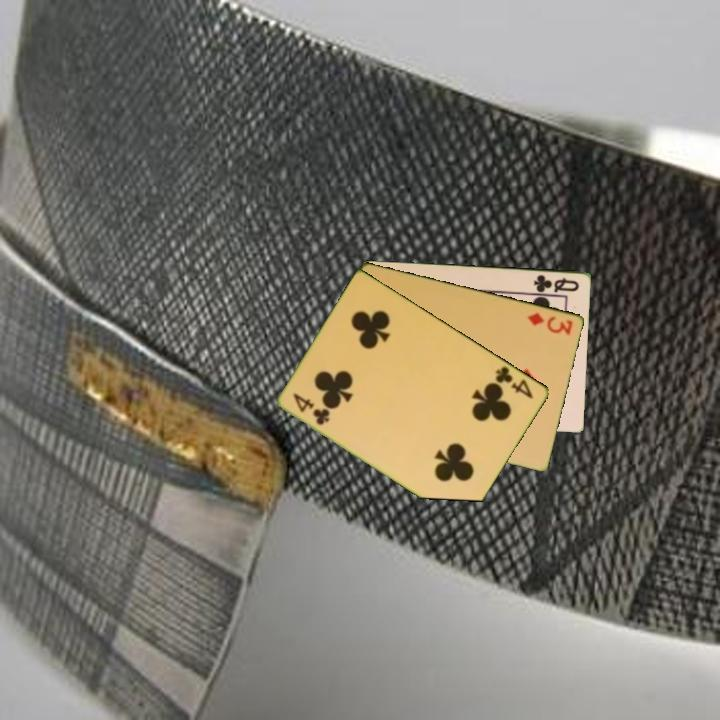3d: (524, 309, 576, 338)
4c: (492, 362, 537, 402), (290, 389, 333, 428)
Qc: (530, 271, 582, 295)
